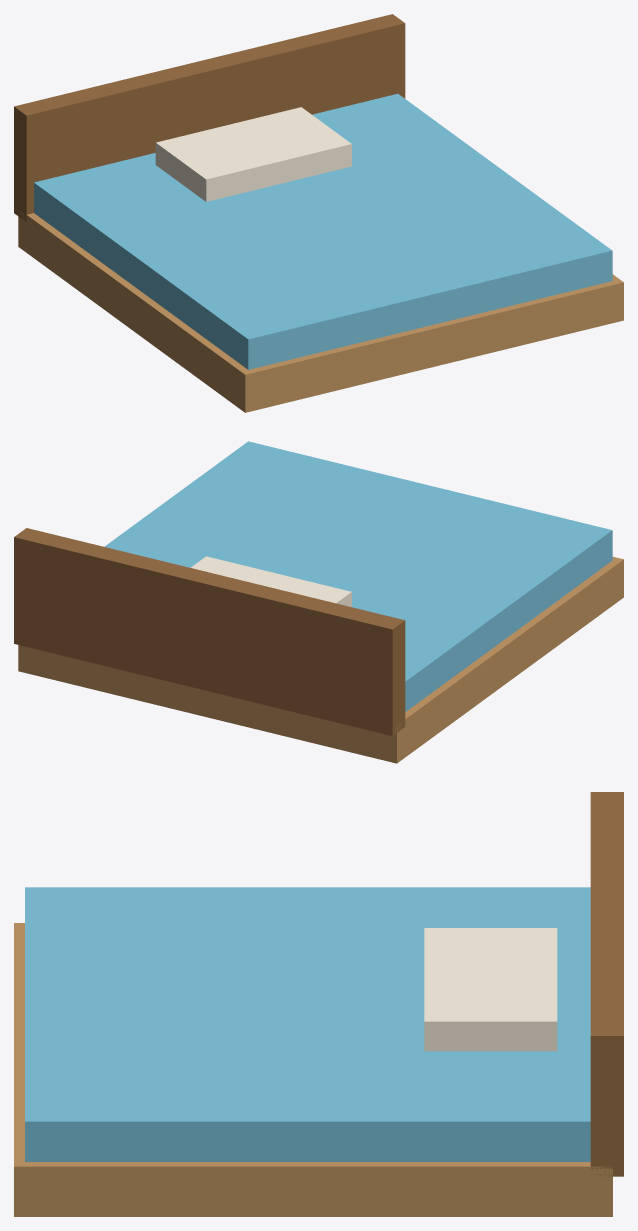
File: bed.glb
3 renders of one model, top to bottom at view 1: azimuth 30°, elevation 25°; view 2: azimuth 150°, elevation 25°; view 3: azimuth 270°, elevation 25°, orthographic. The views are drawn at different scales.
Parts seen in each view (by area): view 1: bed; view 2: bed; view 3: bed.
Part boxes in pixels (x1=…): bed: x1=14, y1=14, x2=623, y2=412; bed: x1=14, y1=441, x2=623, y2=763; bed: x1=14, y1=792, x2=623, y2=1216.
Bounding box in the file's own units: 52 × 18 × 55.
